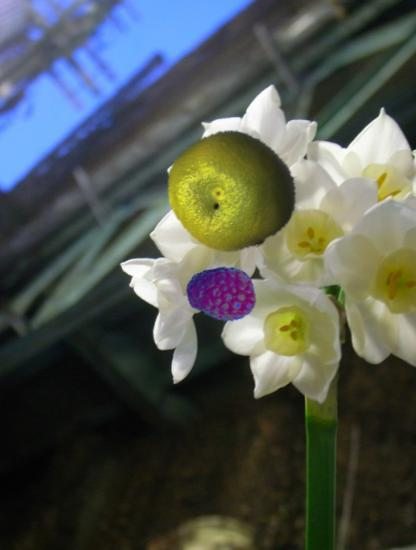Pomelo: (169, 127, 297, 255)
Raspberry: (187, 261, 257, 331)
